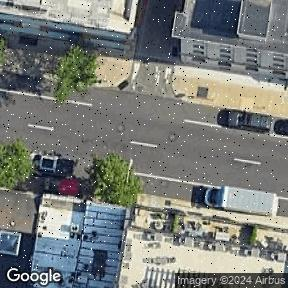vegetation: (37, 40, 108, 112), (86, 149, 145, 213), (0, 140, 32, 188)
